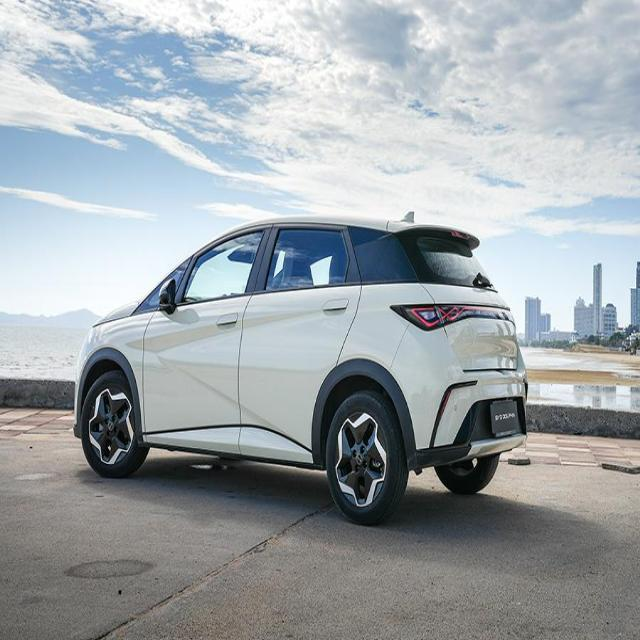Hatchback: (73, 217, 530, 528)
